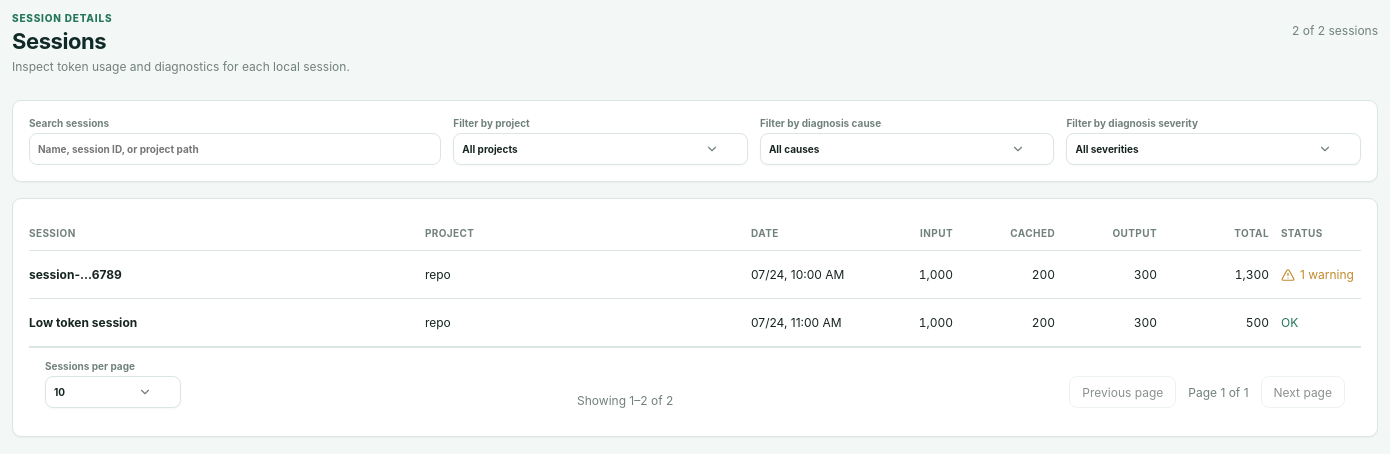
analytics tables › searches sessions and clears all local filters
Type "low token" into the search field labelled "Search sessions" at (235, 149), box [29,133,441,165]
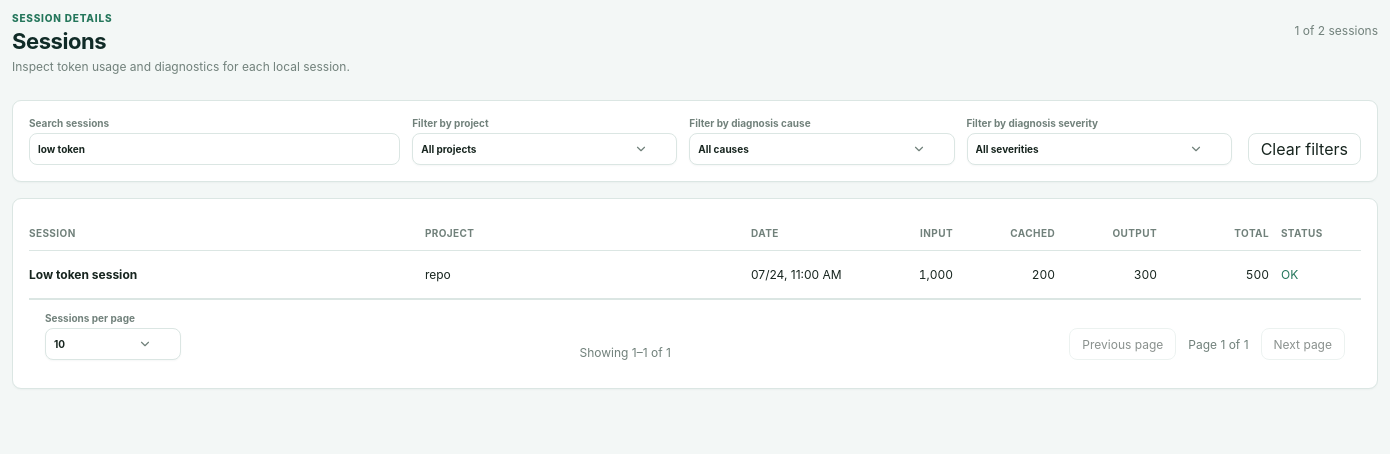
Check: the text "Low token session" is shown, box [29,267,137,282]
Check: the element titled "session-123456789" is gone
Click the button "Clear filters" at (1304, 149), box [1248,133,1361,165]
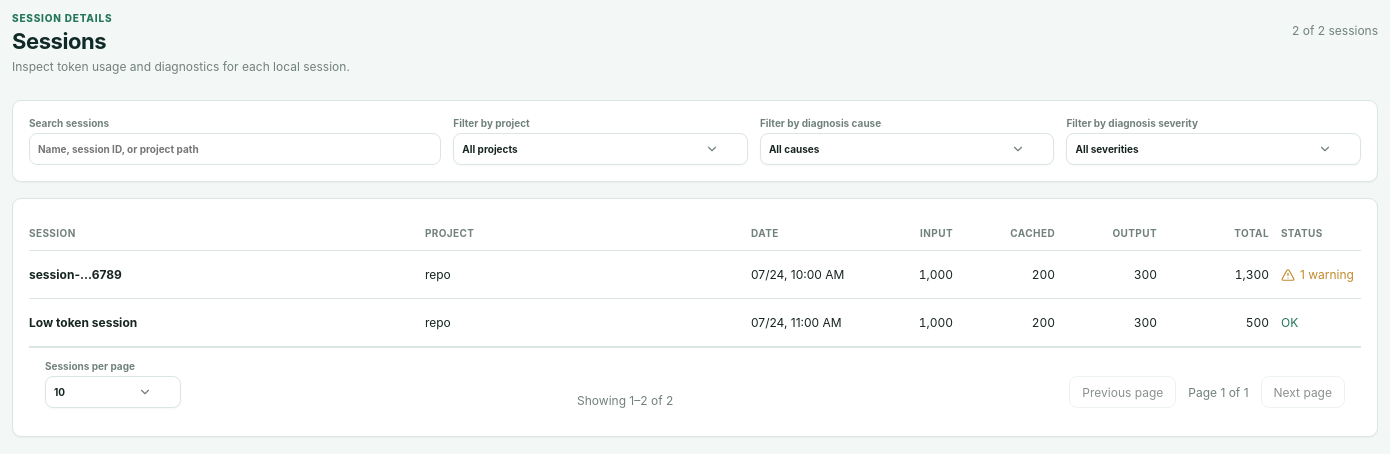
Check: the text "Low token session" is shown, box [29,315,137,330]
Check: the element titled "session-123456789" is shown, box [29,267,122,282]
